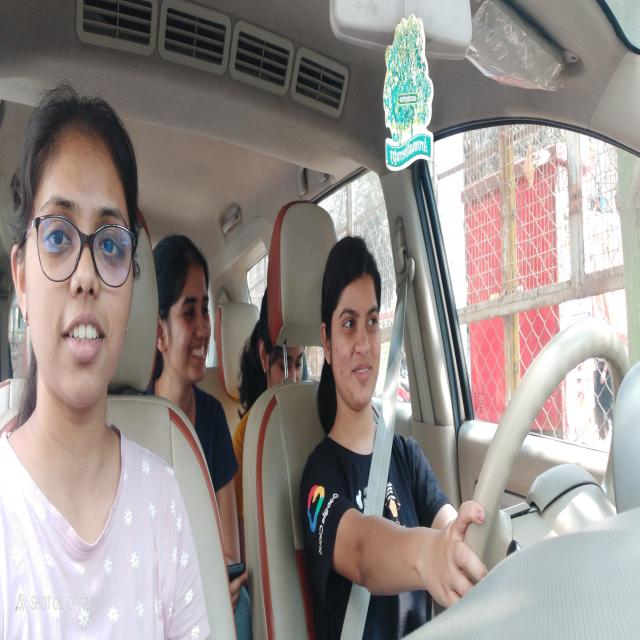person: (11, 72, 146, 410), (318, 231, 388, 420), (154, 228, 216, 400), (256, 292, 309, 416)
